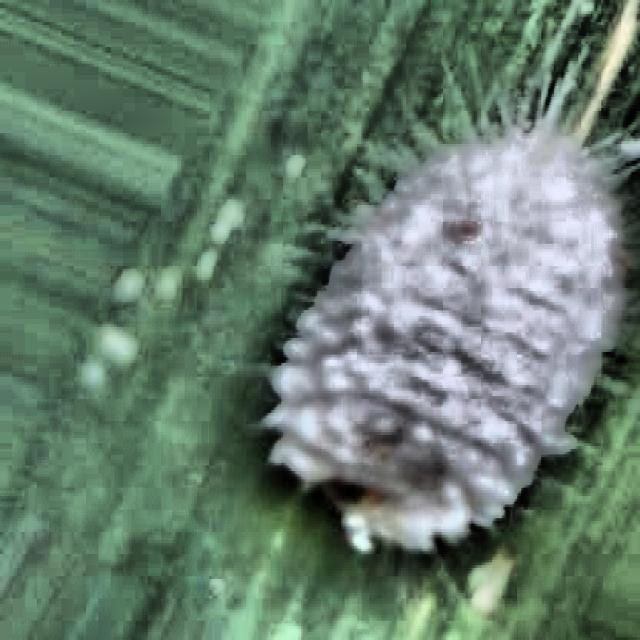Mealy-bug: (245, 75, 640, 547)
